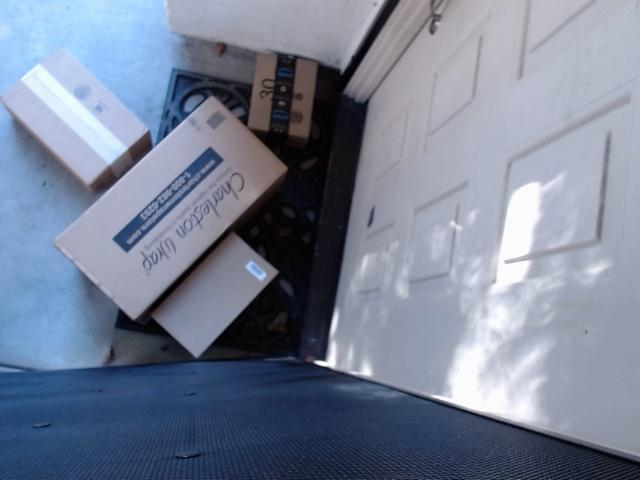box: (43, 102, 294, 303), (3, 49, 155, 180), (154, 234, 296, 365), (235, 39, 333, 148)
